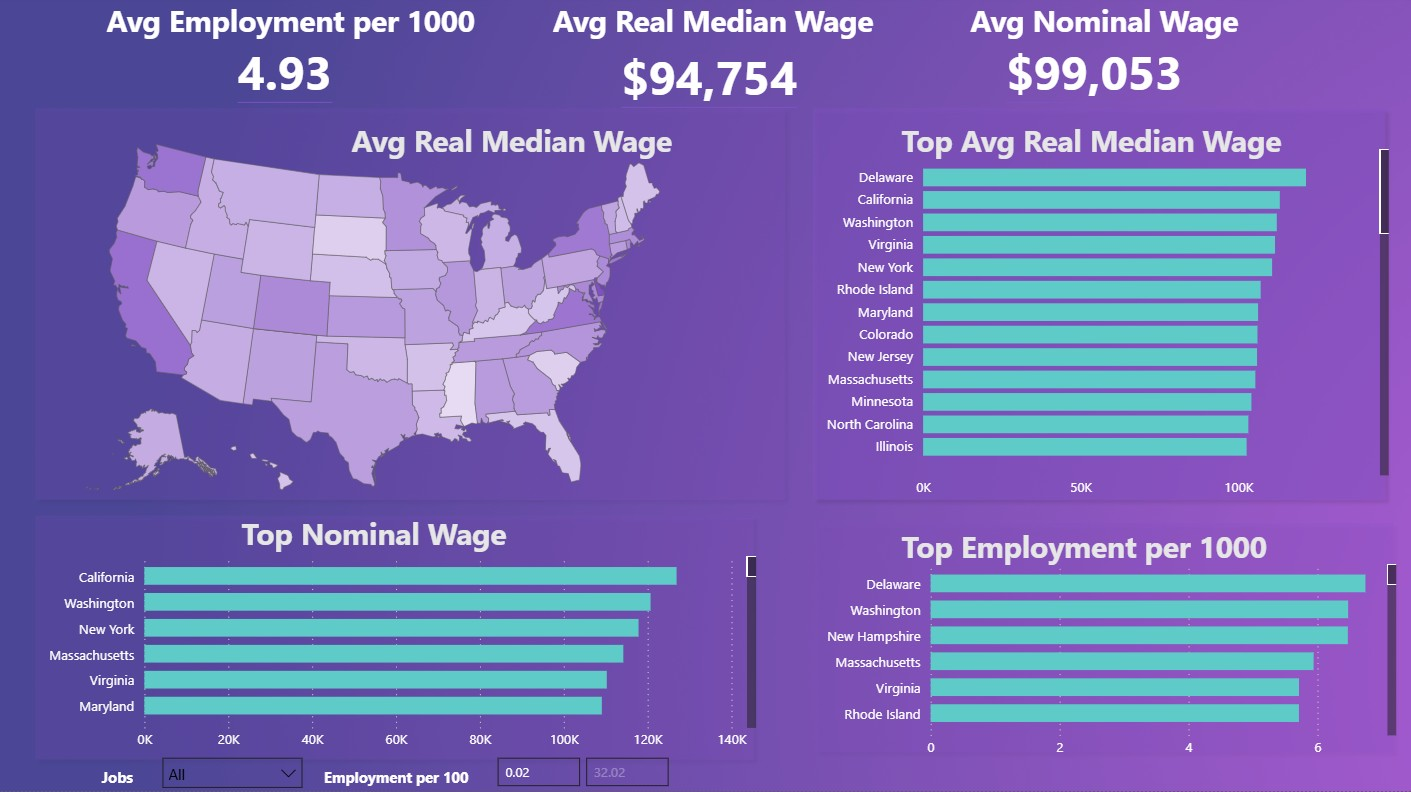

What the dashboard file says about the page in this screenshot:
{"tool":"powerbi","page":{"name":"Page 1","canvas":[1280,720],"ordinal":0},"visuals":[{"type":"shape","box":[28.3,95,691.7,368.3],"z":0},{"type":"shape","box":[28.3,463.3,663.3,235],"z":1000},{"type":"shape","box":[731.7,470,538.3,221.7],"z":2000},{"type":"shape","box":[730,95,531.7,368.3],"z":3000},{"type":"shapeMap","fields":{"Value":["Avg(state_wage_real_employment_final.real_median_annual_wage)"],"Category":["state_wage_real_employment_final.state"]},"box":[0,113.3,681.7,356.7],"z":4000},{"type":"slicer","fields":{"Values":["state_wage_real_employment_final.occupation"]},"box":[140,678.3,146.7,41.7],"z":5000},{"type":"clusteredBarChart","fields":{"Category":["state_wage_real_employment_final.state"],"Y":["Avg(state_wage_real_employment_final.real_median_annual_wage)"]},"box":[731.7,126.7,531.7,336.7],"z":6000},{"type":"clusteredBarChart","fields":{"Category":["state_wage_real_employment_final.state"],"Y":["Avg(state_wage_real_employment_final.employment_per_1000)"]},"box":[738.3,501.7,531.7,196.7],"z":7000},{"type":"slicer","fields":{"Values":["state_wage_real_employment_final.employment_per_1000"]},"box":[440,678.3,185,41.7],"z":8000},{"type":"clusteredBarChart","fields":{"Category":["state_wage_real_employment_final.state"],"Y":["Avg(state_wage_real_employment_final.median_annual_wage)"]},"box":[28.3,495,663.3,196.7],"z":9000},{"type":"textbox","box":[213.3,35,150,73.3],"z":10000},{"type":"textbox","box":[560,40,196.7,73.3],"z":11000},{"type":"textbox","box":[908.3,35,188.3,73.3],"z":12000},{"type":"textbox","box":[95,0,345,83.3],"z":13000},{"type":"textbox","box":[498.3,0,328.3,83.3],"z":14000},{"type":"textbox","box":[875,0,328.3,83.3],"z":15000},{"type":"textbox","box":[813.3,108.3,425,76.7],"z":16000},{"type":"textbox","box":[316.7,108.3,363.3,76.7],"z":17000},{"type":"textbox","box":[813.3,475,418.3,76.7],"z":18000},{"type":"textbox","box":[216.7,463.3,300,76.7],"z":19000},{"type":"textbox","box":[90,692.2,50,27.8],"z":20000},{"type":"textbox","box":[291.7,691.7,148.3,28.3],"z":21000}]}

Visuals, with their boxes in screenshot pixels (x1, y1, x2, y2), scaled from the page's 1280x720 canvas onto the 1411x792 screenshot:
shape: (x1=31, y1=105, x2=794, y2=510)
shape: (x1=31, y1=510, x2=762, y2=768)
shape: (x1=807, y1=517, x2=1400, y2=761)
shape: (x1=805, y1=105, x2=1391, y2=510)
shapeMap - Avg(state_wage_real_employment_final.real_median_annual_wage) x state_wage_real_employment_final.state: (x1=0, y1=125, x2=751, y2=517)
slicer - state_wage_real_employment_final.occupation: (x1=154, y1=746, x2=316, y2=791)
clusteredBarChart - state_wage_real_employment_final.state x Avg(state_wage_real_employment_final.real_median_annual_wage): (x1=807, y1=139, x2=1393, y2=510)
clusteredBarChart - state_wage_real_employment_final.state x Avg(state_wage_real_employment_final.employment_per_1000): (x1=814, y1=552, x2=1400, y2=768)
slicer - state_wage_real_employment_final.employment_per_1000: (x1=485, y1=746, x2=689, y2=791)
clusteredBarChart - state_wage_real_employment_final.state x Avg(state_wage_real_employment_final.median_annual_wage): (x1=31, y1=544, x2=762, y2=761)
textbox: (x1=235, y1=38, x2=400, y2=119)
textbox: (x1=617, y1=44, x2=834, y2=125)
textbox: (x1=1001, y1=38, x2=1209, y2=119)
textbox: (x1=105, y1=0, x2=485, y2=92)
textbox: (x1=549, y1=0, x2=911, y2=92)
textbox: (x1=965, y1=0, x2=1326, y2=92)
textbox: (x1=897, y1=119, x2=1365, y2=204)
textbox: (x1=349, y1=119, x2=750, y2=204)
textbox: (x1=897, y1=522, x2=1358, y2=607)
textbox: (x1=239, y1=510, x2=570, y2=594)
textbox: (x1=99, y1=761, x2=154, y2=791)
textbox: (x1=322, y1=761, x2=485, y2=791)
